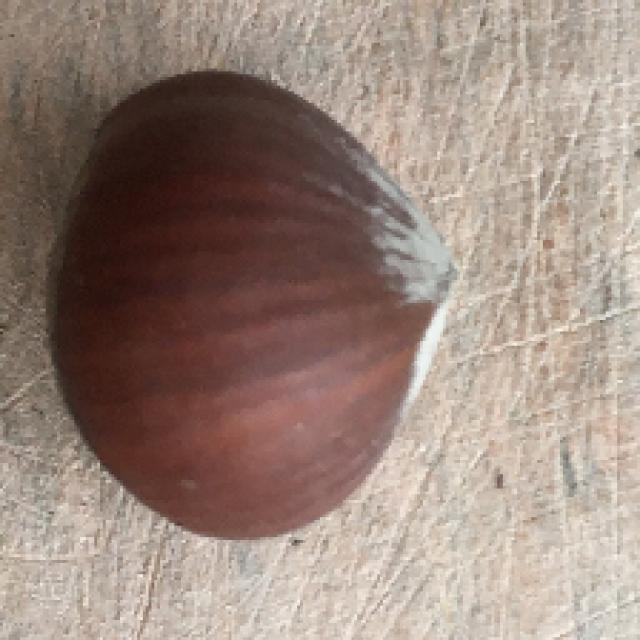damagedHazelnut: (48, 71, 451, 545)
